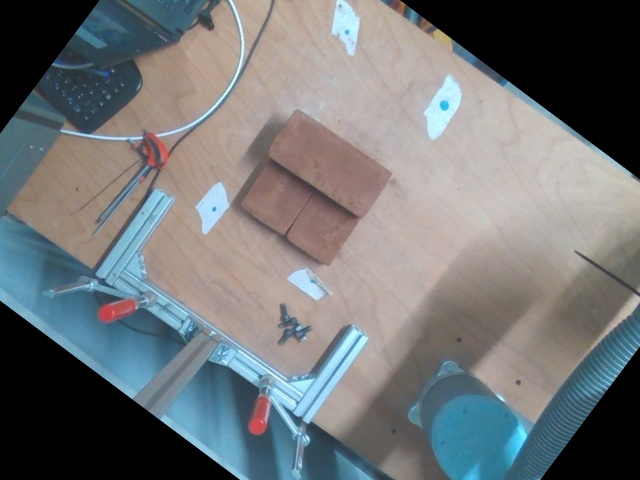brick: (268, 109, 391, 215)
